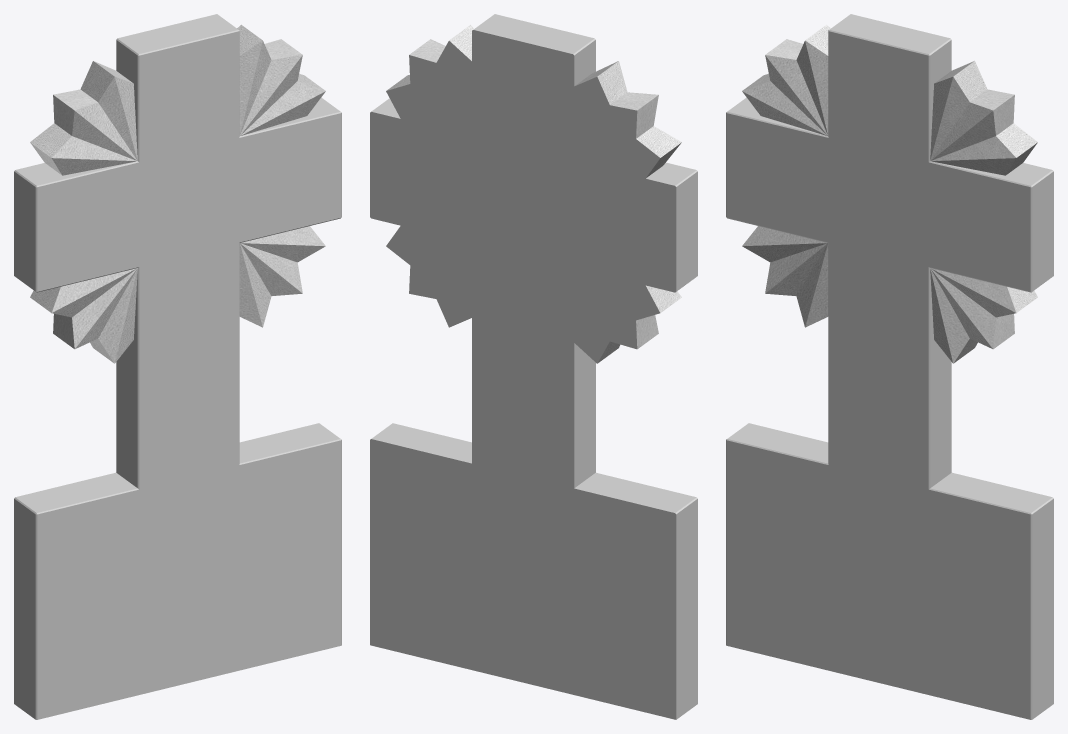
File: cn0da98501c3_tkf.glb
3 renders of one model, left to right at view 1: azimuth 30°, elevation 25°; view 2: azimuth 150°, elevation 25°; view 3: azimuth 330°, elevation 25°, orthographic.
Parts seen in each view (by area): view 1: Pam-k-031, Pam-k-031_2_notexture; view 2: Pam-k-031, Pam-k-031_2_notexture; view 3: Pam-k-031, Pam-k-031_2_notexture.
Boxes of the visible parts, bbox=[...] form: Pam-k-031: bbox=[14, 14, 341, 719]; Pam-k-031_2_notexture: bbox=[30, 24, 325, 363]; Pam-k-031: bbox=[370, 14, 697, 719]; Pam-k-031_2_notexture: bbox=[386, 24, 681, 363]; Pam-k-031: bbox=[726, 14, 1053, 719]; Pam-k-031_2_notexture: bbox=[742, 24, 1037, 363].
Bounding box in the file's own units: 0.4 × 0.8 × 0.05.
1 material, 1 textured.
